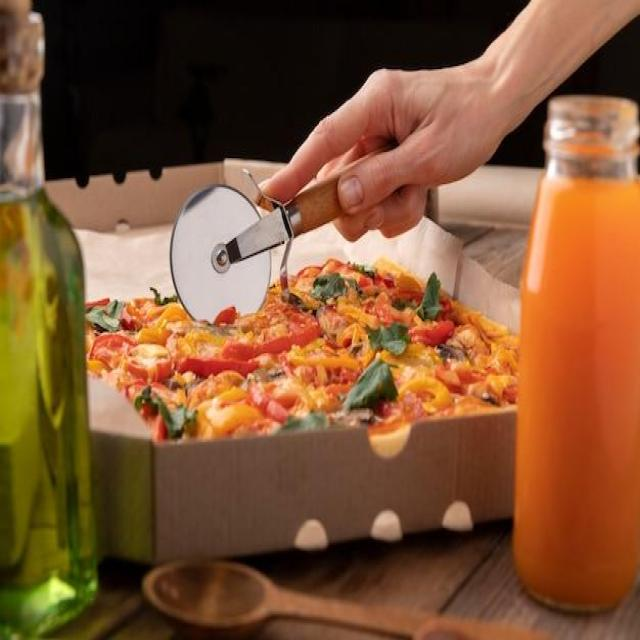basil: (135, 384, 198, 441), (348, 362, 398, 414), (402, 274, 443, 321), (364, 322, 412, 356), (84, 297, 124, 337), (314, 272, 362, 301), (273, 413, 331, 431), (146, 284, 181, 311), (350, 260, 377, 281)
pizza: (84, 257, 531, 446)
